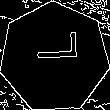L_W: (30, 41, 80, 74)
